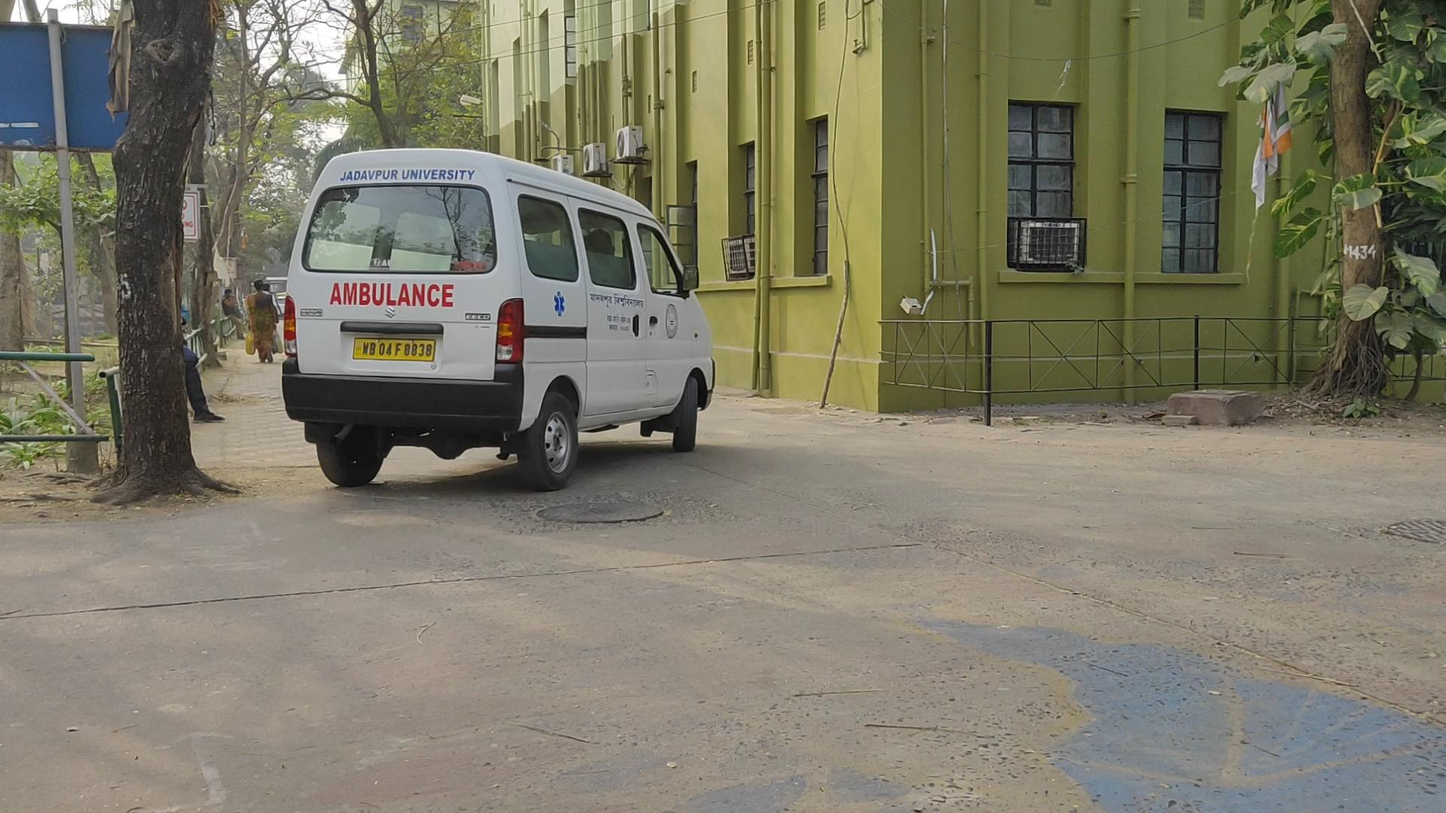van: (284, 147, 715, 491)
